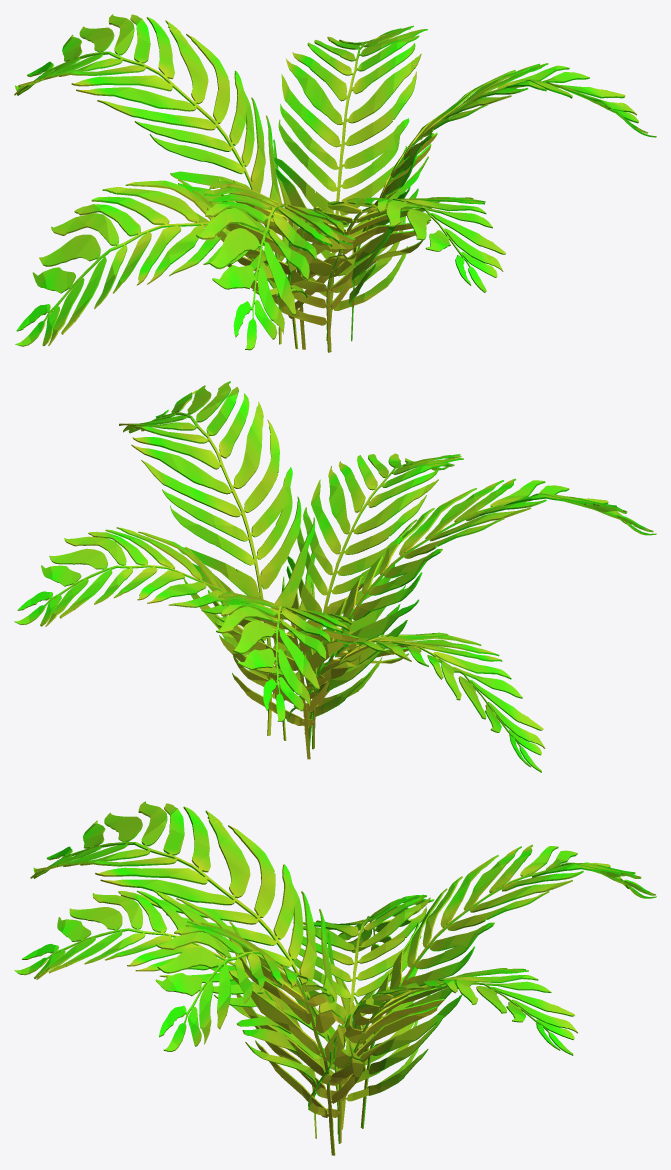
The model's file is fern.fbx.
3 views of the same model, one above another, from view 1: azimuth 30°, elevation 25°; view 2: azimuth 150°, elevation 25°; view 3: azimuth 270°, elevation 25° (orthographic). The views are drawn at different scales.
Visible parts, largest first — view 1: fern_leave; view 2: fern_leave; view 3: fern_leave.
Part boxes in pixels (x1,y1,x2,y2): fern_leave: [14, 14, 656, 352]; fern_leave: [14, 381, 656, 772]; fern_leave: [14, 801, 656, 1155].
Size of the model in its own units: 4.32 by 2.2 by 4.57.
